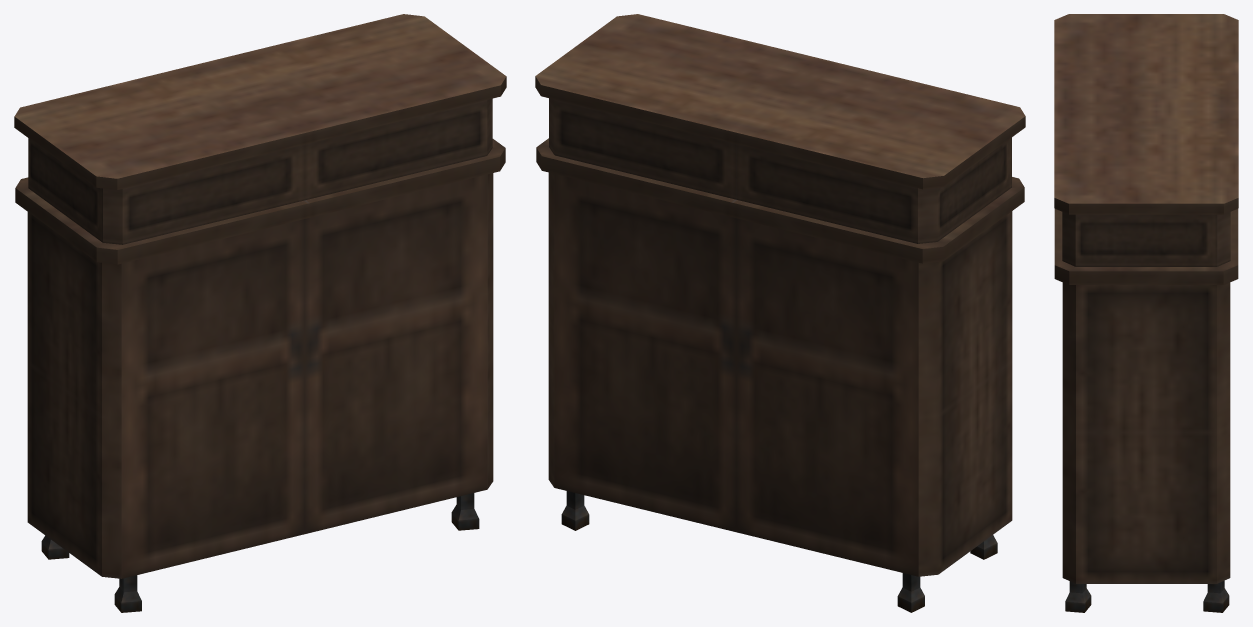
The model's file is MiniBR_Cabinet001.fbx.
3 views of the same model, side by side, from view 1: azimuth 30°, elevation 25°; view 2: azimuth 150°, elevation 25°; view 3: azimuth 270°, elevation 25° (orthographic). The views are drawn at different scales.
Visible parts, largest first — view 1: MiniBR_Cabinet001; view 2: MiniBR_Cabinet001; view 3: MiniBR_Cabinet001.
Part boxes in pixels (x1,y1,x2,y2): MiniBR_Cabinet001: (14,14,506,612); MiniBR_Cabinet001: (535,14,1025,612); MiniBR_Cabinet001: (1054,14,1238,612).
Bounding box in the file's own units: 257 × 106 × 266.
Materials: 1 (1 with a texture image).
